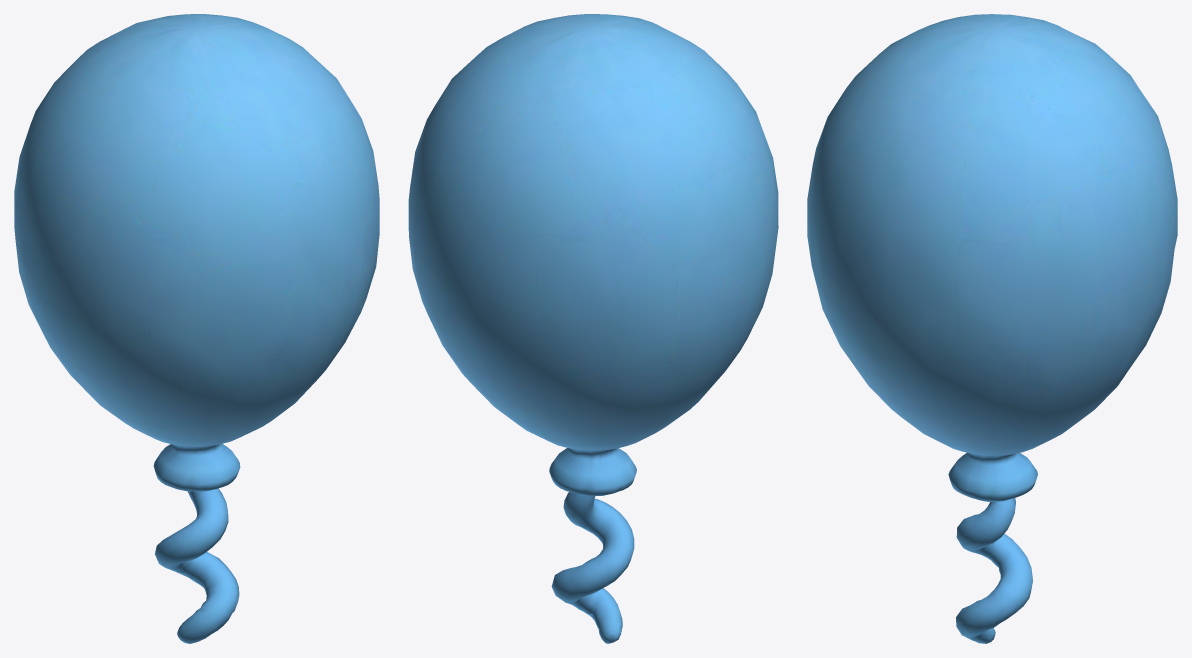
File: balloon.glb
The picture shows the model from 3 angles, left to right: view 1: azimuth 30°, elevation 25°; view 2: azimuth 150°, elevation 25°; view 3: azimuth 270°, elevation 25°; orthographic projection.
Parts seen in each view (by area): view 1: geometry_0; view 2: geometry_0; view 3: geometry_0.
Boxes of the visible parts, box(x1,y1,x2,y2) form: geometry_0: box(14, 14, 379, 643); geometry_0: box(408, 14, 778, 643); geometry_0: box(807, 14, 1177, 643).
Bounding box in the file's own units: 0.549 × 1 × 0.543.
1 material, 1 textured.
